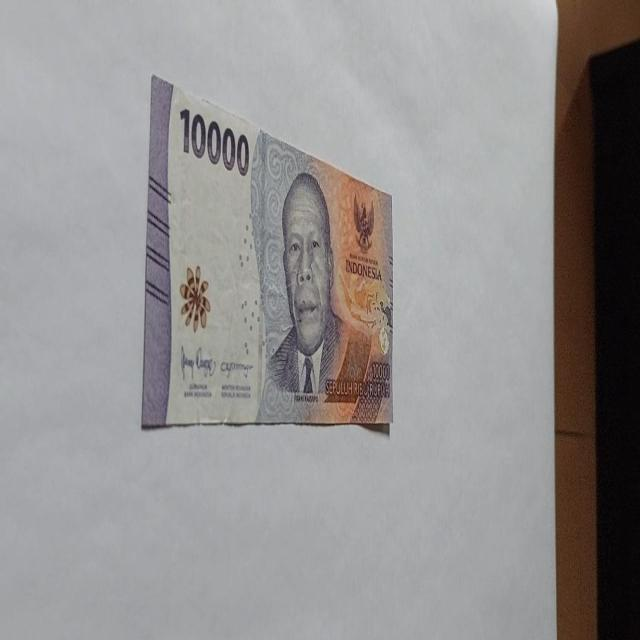Kertas: (141, 73, 395, 432), (178, 106, 250, 177)
